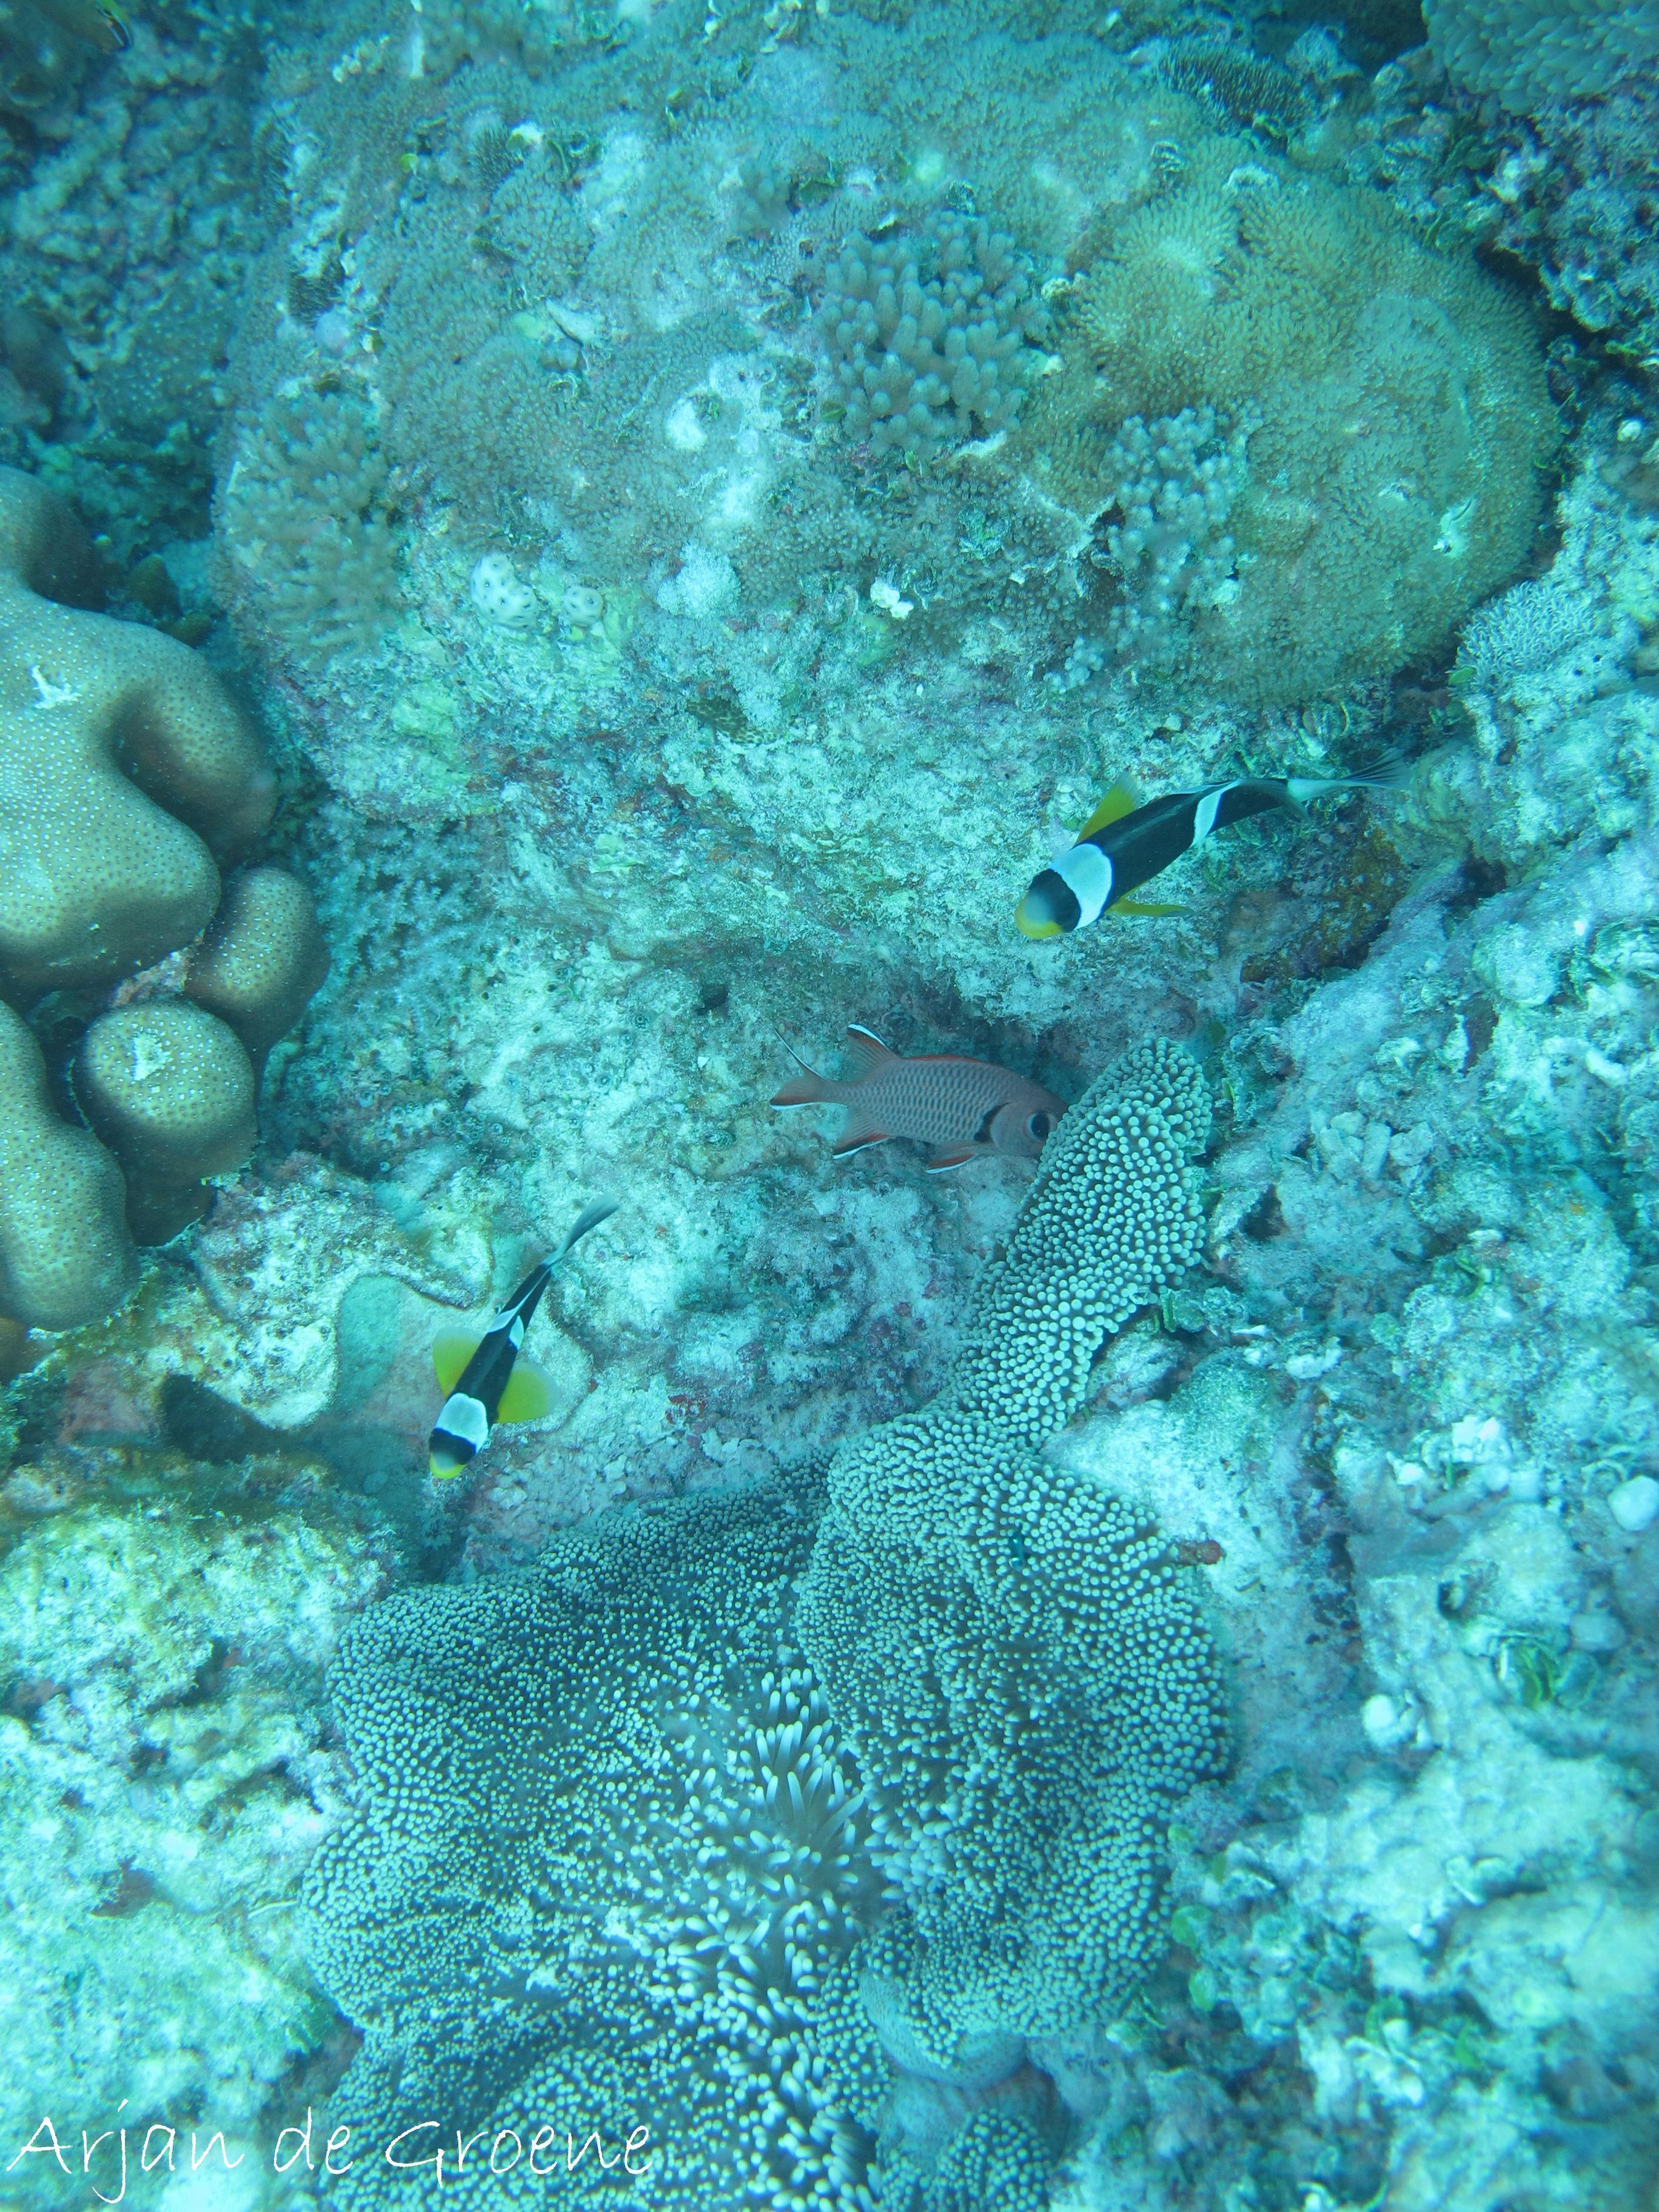Fish: (274, 1184, 678, 1543), (978, 726, 1413, 1010)
